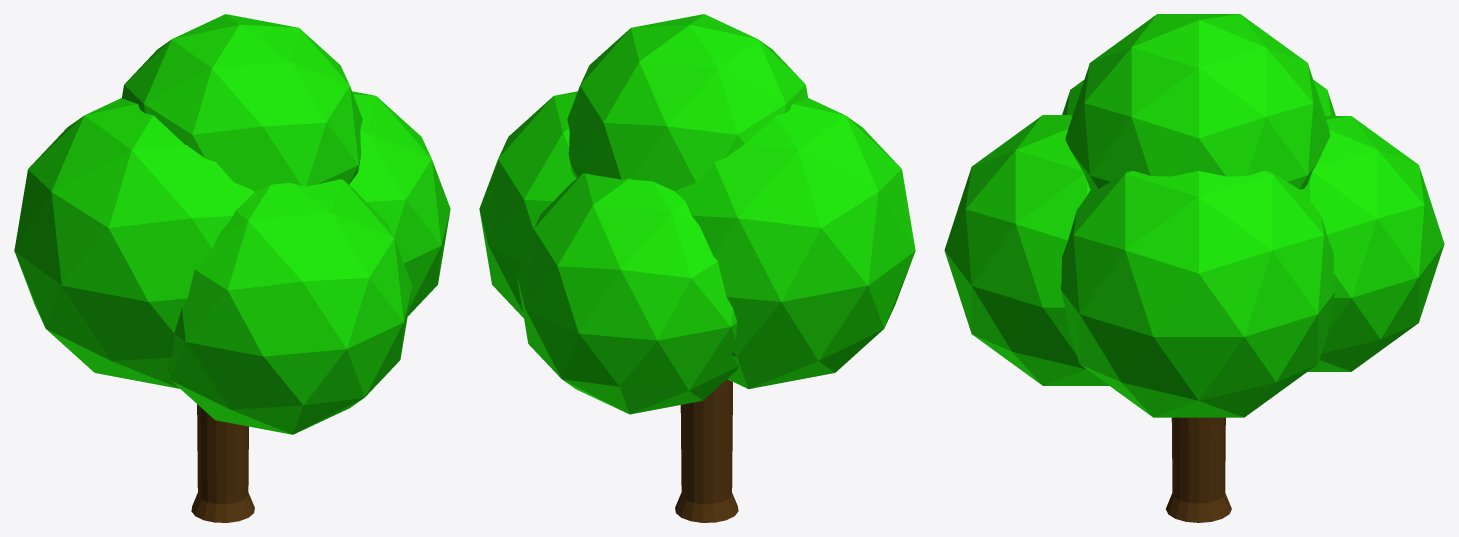
Rendered from tree.gltf.
3 views of the same model, side by side, from view 1: azimuth 30°, elevation 25°; view 2: azimuth 150°, elevation 25°; view 3: azimuth 270°, elevation 25° (orthographic). The views are drawn at different scales.
Parts seen in each view (by area): view 1: Circle.001; view 2: Circle.001; view 3: Circle.001.
Part boxes in pixels (x1,y1,x2,y2): Circle.001: (14,14,450,522); Circle.001: (479,14,915,522); Circle.001: (944,14,1444,522).
Size of the model in its own units: 2.85 by 3.35 by 3.05.
